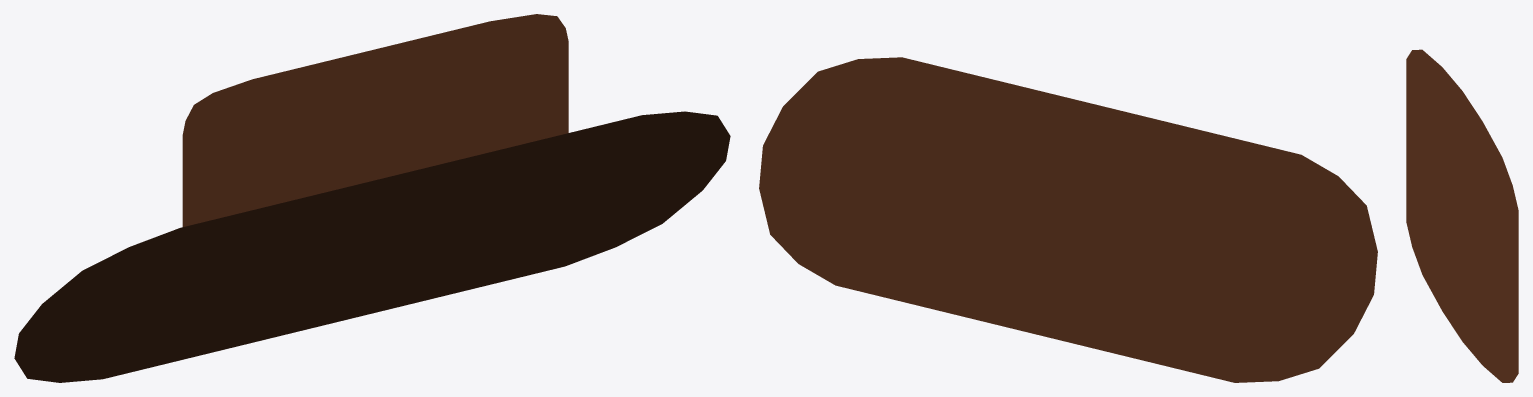
Rendered from Face_voice_Hat_STM.fbx.
3 views of the same model, side by side, from view 1: azimuth 30°, elevation 25°; view 2: azimuth 150°, elevation 25°; view 3: azimuth 270°, elevation 25° (orthographic). The views are drawn at different scales.
Parts seen in each view (by area): view 1: Hat; view 2: Hat; view 3: Hat.
Part boxes in pixels (left/top/right/bottom): Hat: left=14, top=14, right=730, bottom=382; Hat: left=759, top=57, right=1377, bottom=382; Hat: left=1406, top=49, right=1518, bottom=382.
Bounding box in the file's own units: 75.71 × 31.17 × 14.29.
